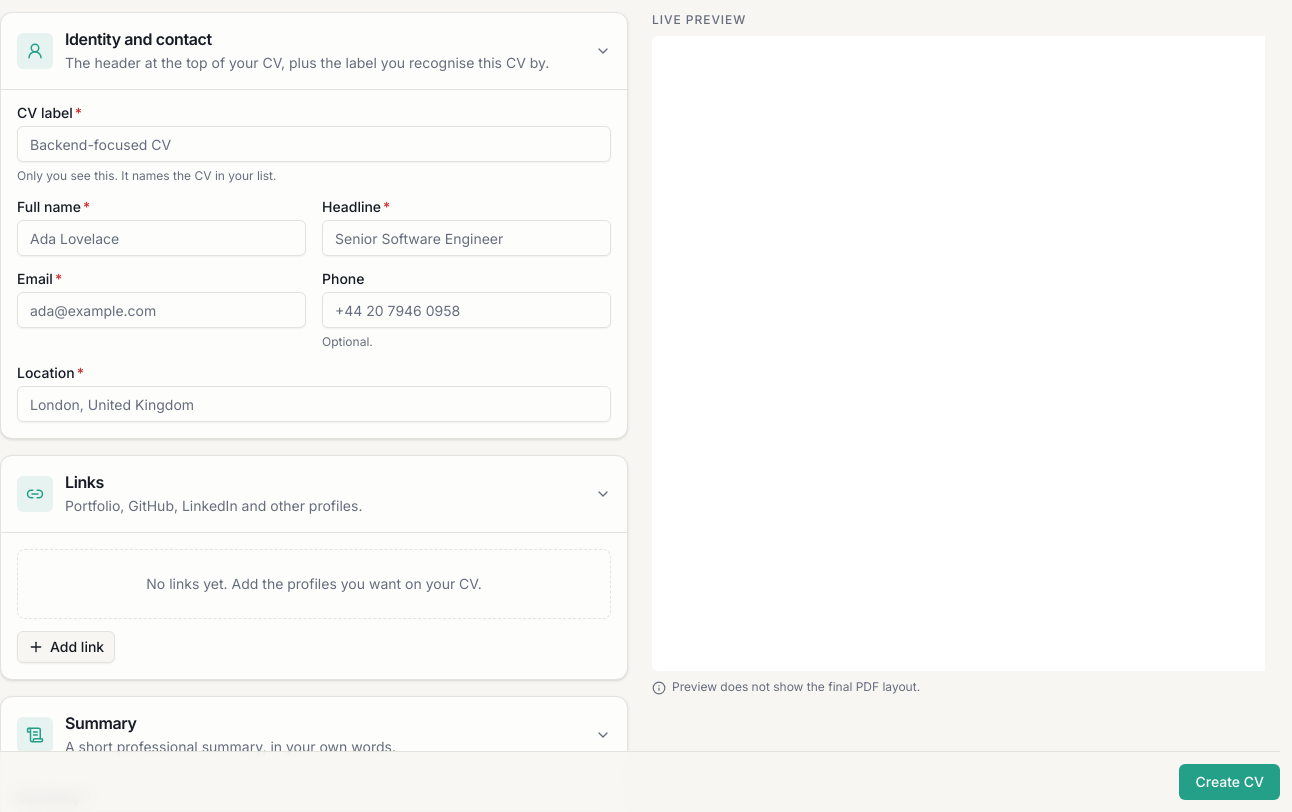
Test: BaseCvEditor › blocks the submit and shows the inline errors the required fields carry
Click the button "Create CV".
click(1230, 782)  # box x1=1180 y1=764 x2=1280 y2=800
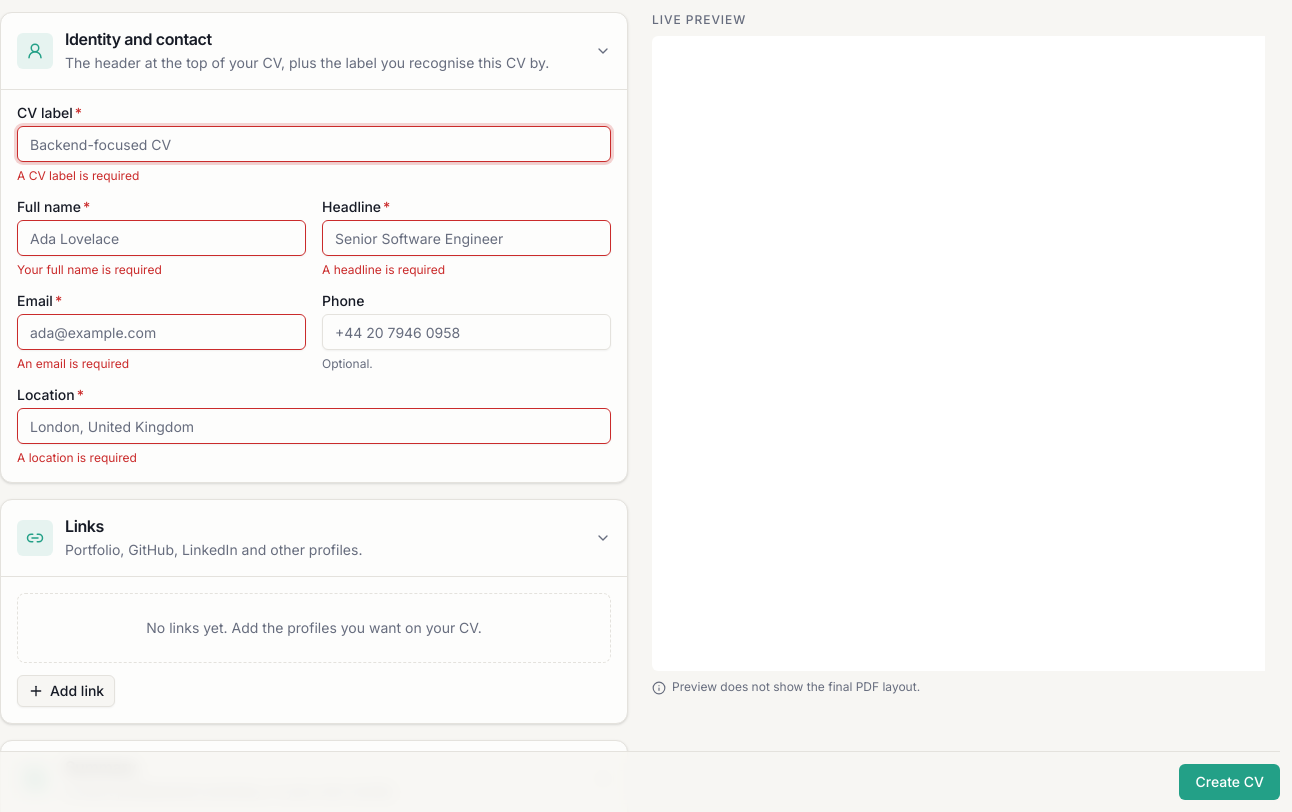
Result: the text "A CV label is required" is shown at x1=17 y1=168 x2=139 y2=183
Result: the text "Your full name is required" is shown at x1=17 y1=262 x2=162 y2=277
Result: the text "An email is required" is shown at x1=17 y1=356 x2=129 y2=371
